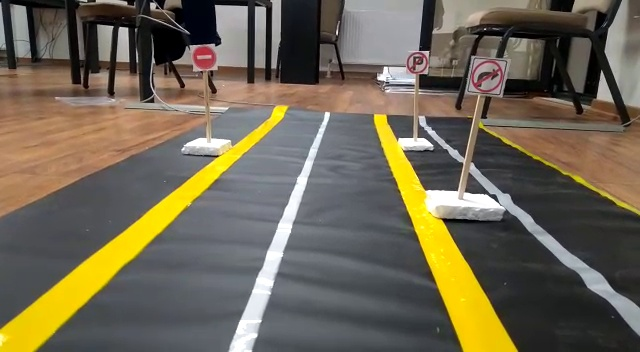girisi_olmayan_yol: (190, 42, 217, 70)
park_yapilmaz: (407, 49, 429, 74)
saga_donulmez: (470, 53, 504, 98)
